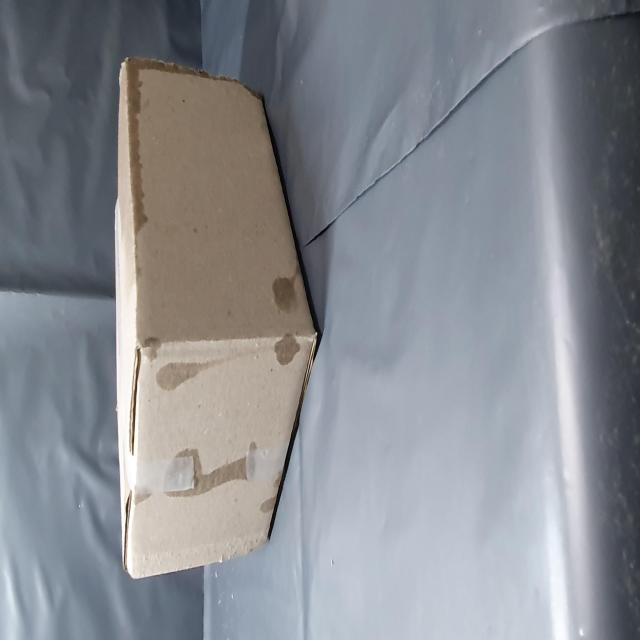wet: (134, 274, 206, 554), (224, 212, 326, 268)
